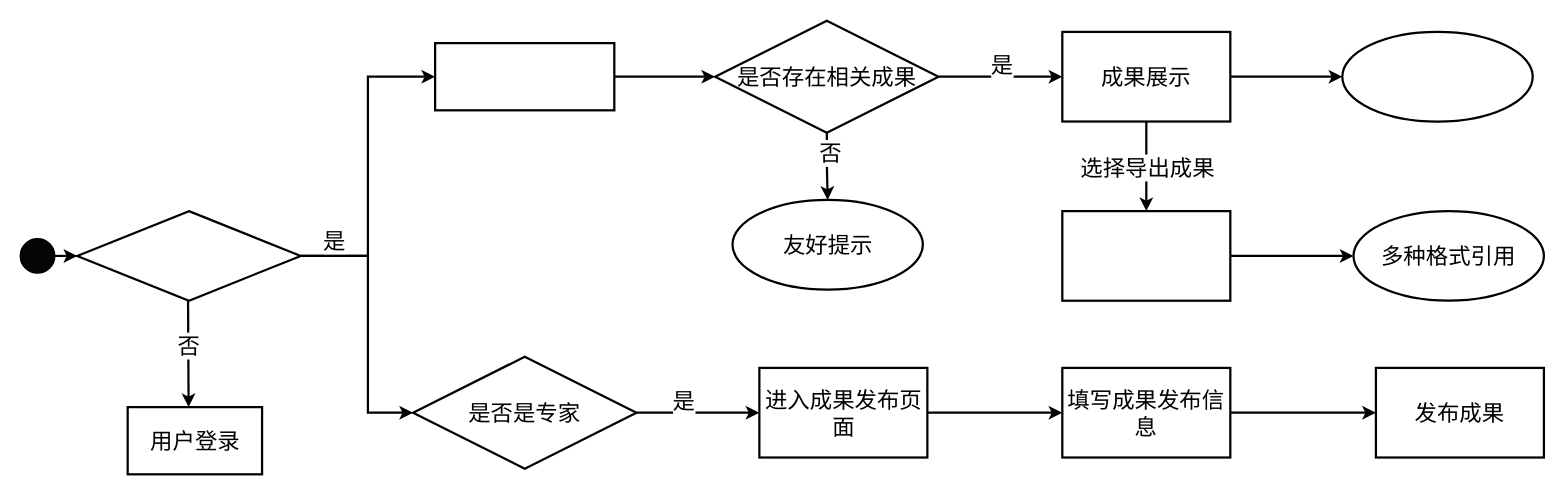
This 1564x494 diagram has some shape labels left out. Each missing label, with the centre of its shape:
成果导出: pixel 1146 255
成果相关内容: pixel 1437 76
用户是否登录: pixel 188 255
输入关键词成果检索: pixel 524 76
